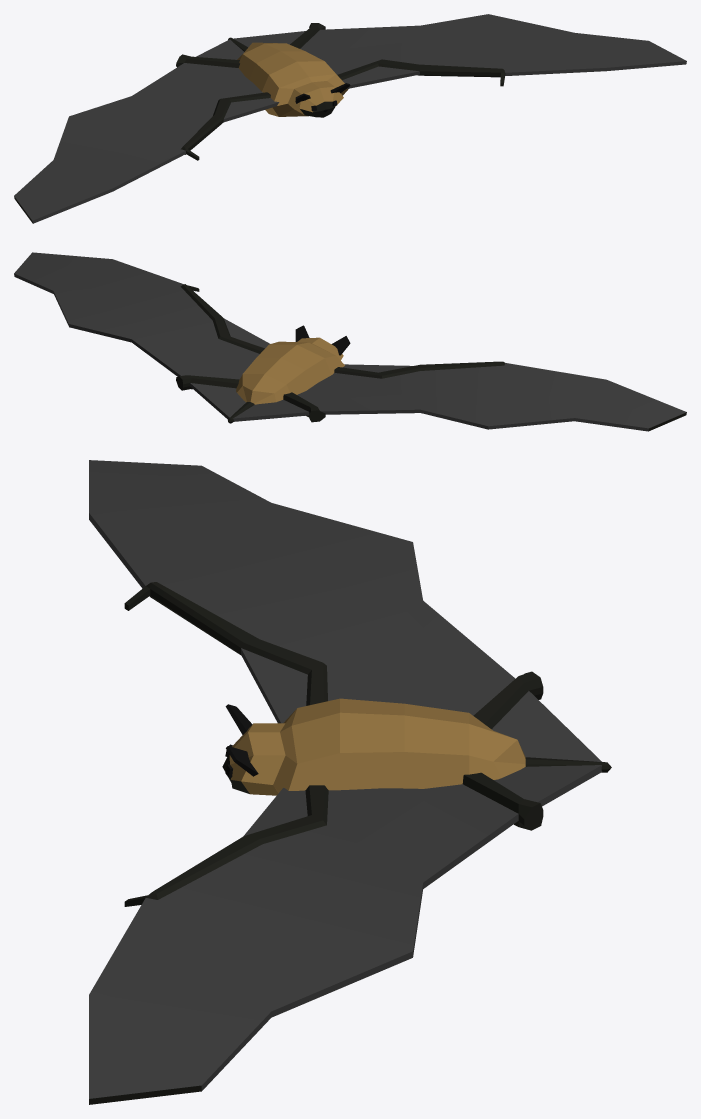
File: 4b9dad13-2132-45d3-8888-1031bcc2a322.glb
3 renders of one model, top to bottom at view 1: azimuth 30°, elevation 25°; view 2: azimuth 150°, elevation 25°; view 3: azimuth 270°, elevation 25°, orthographic. The views are drawn at different scales.
Visible parts, largest first — view 1: Geo_Bat; view 2: Geo_Bat; view 3: Geo_Bat.
Boxes of the visible parts, left/top/right/bottom form: Geo_Bat: left=14, top=14, right=686, bottom=223; Geo_Bat: left=14, top=252, right=686, bottom=431; Geo_Bat: left=89, top=460, right=611, bottom=1104.
Bounding box in the file's own units: 162 × 12.35 × 56.06.
1 material, 1 textured.
